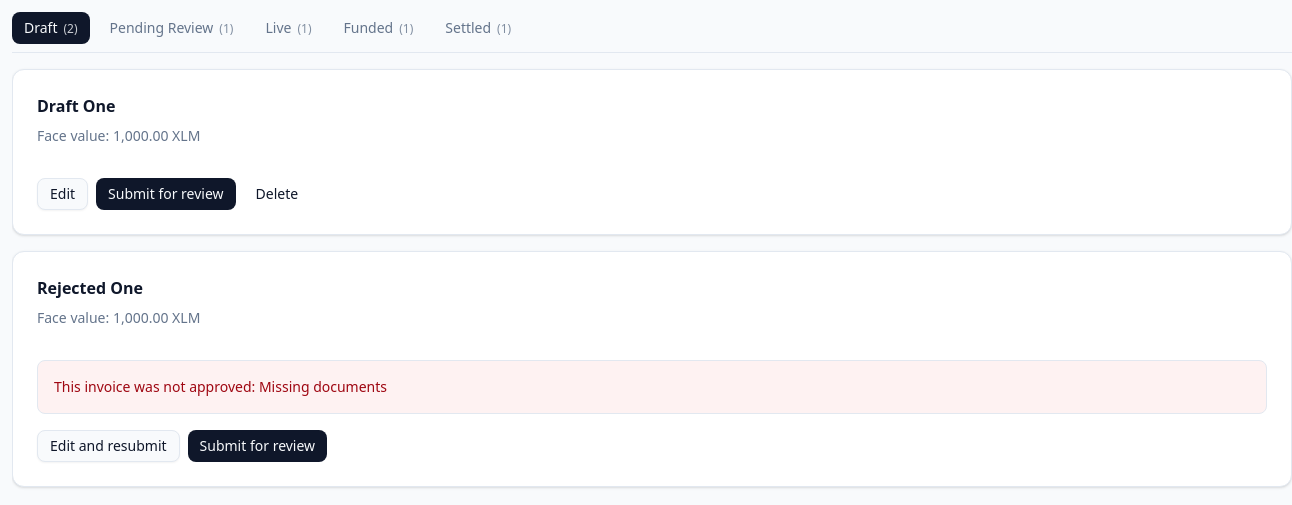
it: per-state actions › labels settled yield as paid rather than expected
The width and height of the screenshot is (1292, 505).
Click the tab "Settled(1)" at (478, 28), box [433,12,523,44]
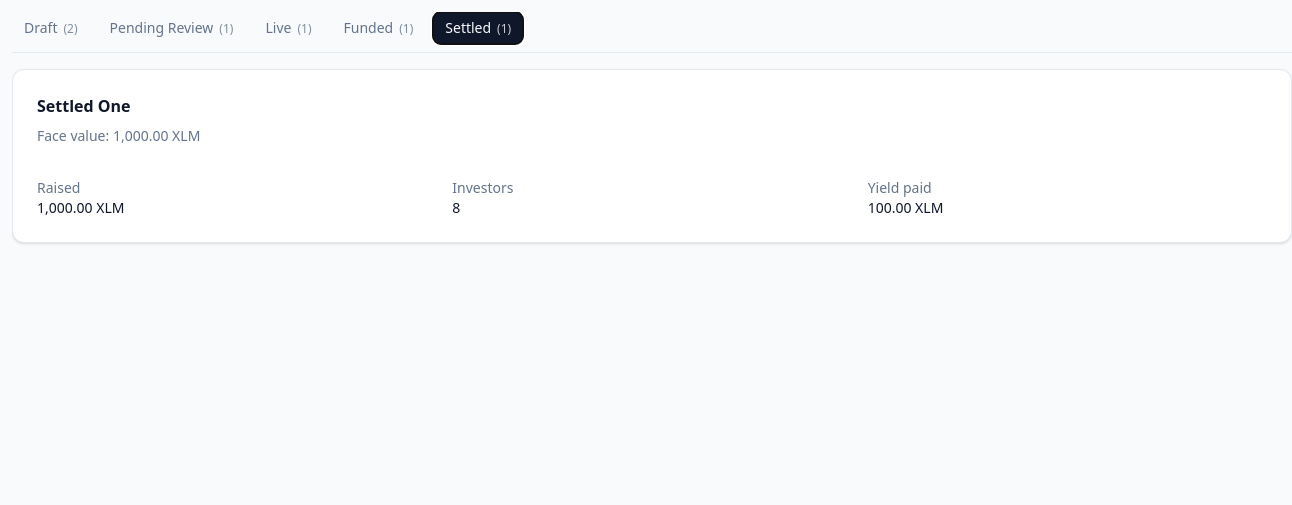
Expected: the element with test id "payout-summary" shows "Yield paid", [868,178,932,197]
